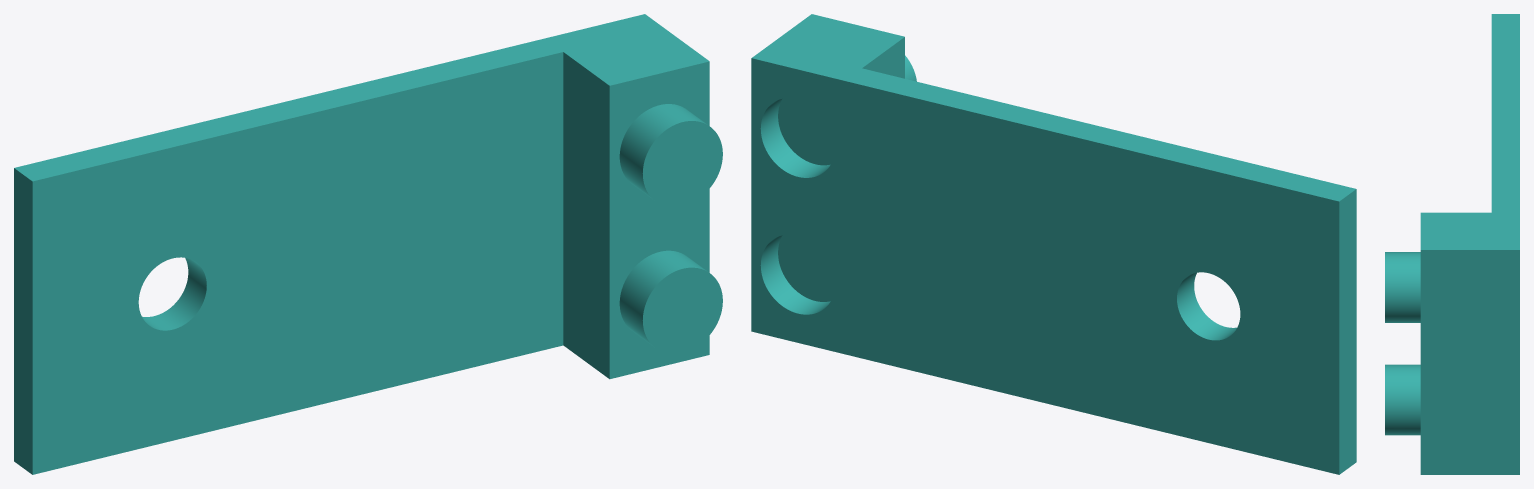
File: ir_sensor.glb
3 renders of one model, left to right at view 1: azimuth 30°, elevation 25°; view 2: azimuth 150°, elevation 25°; view 3: azimuth 270°, elevation 25°, orthographic. The views are drawn at different scales.
Size of the model in its own units: 0.0315 by 0.014 by 0.0076.
